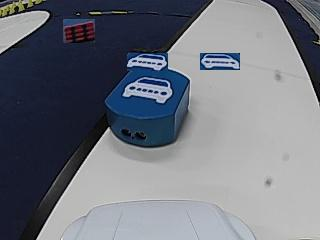safety: (123, 76, 175, 103)
